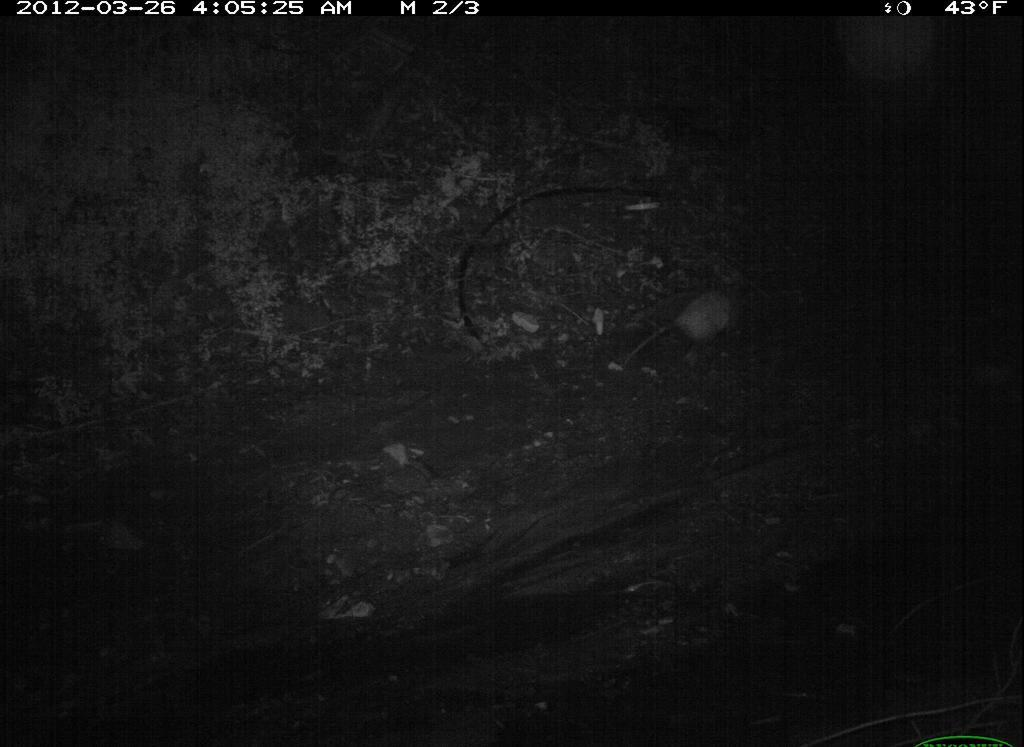opossum: (638, 265, 772, 356)
